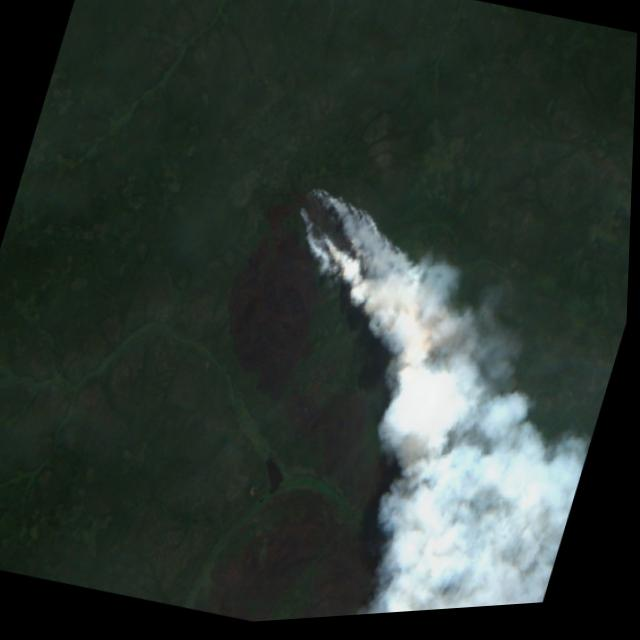fire: (265, 175, 455, 359)
